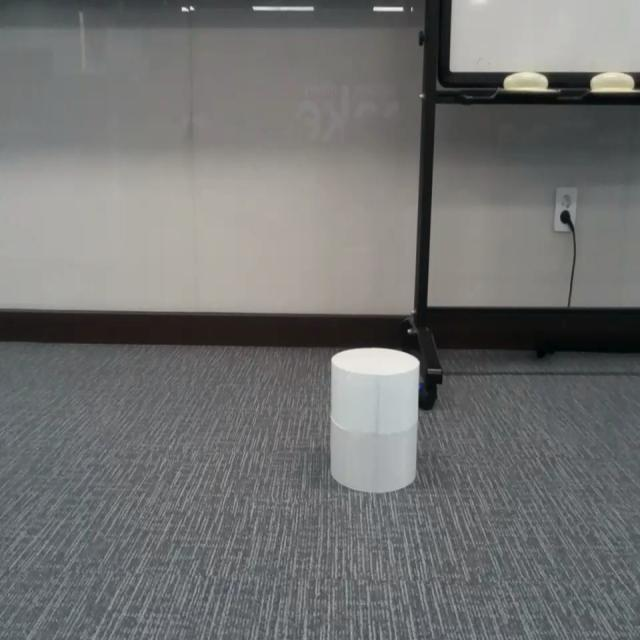cylinder: (330, 347, 420, 494)
